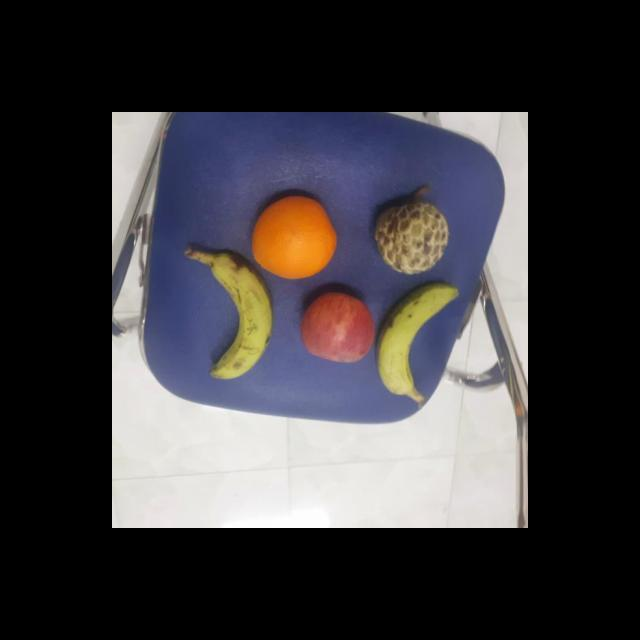Sakya fruit: (369, 202, 454, 276)
apple: (299, 290, 378, 367)
banana: (200, 252, 276, 384), (373, 286, 459, 401)
orange: (248, 194, 337, 282)
